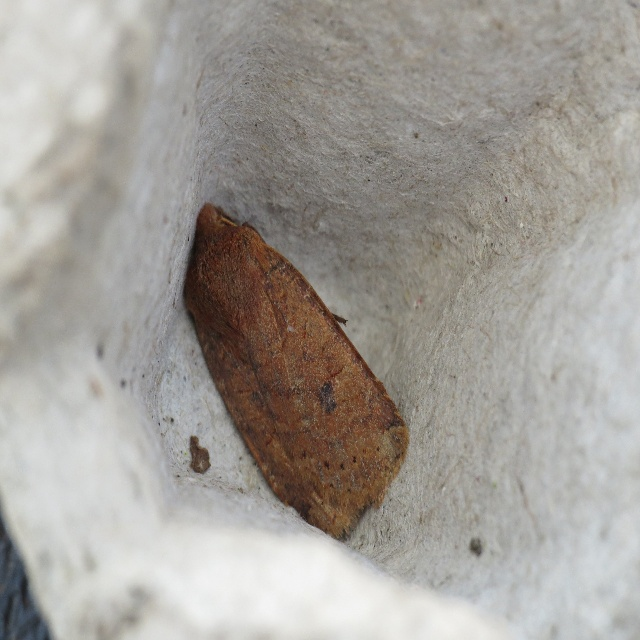Moths and butterflies: (183, 195, 413, 542)
